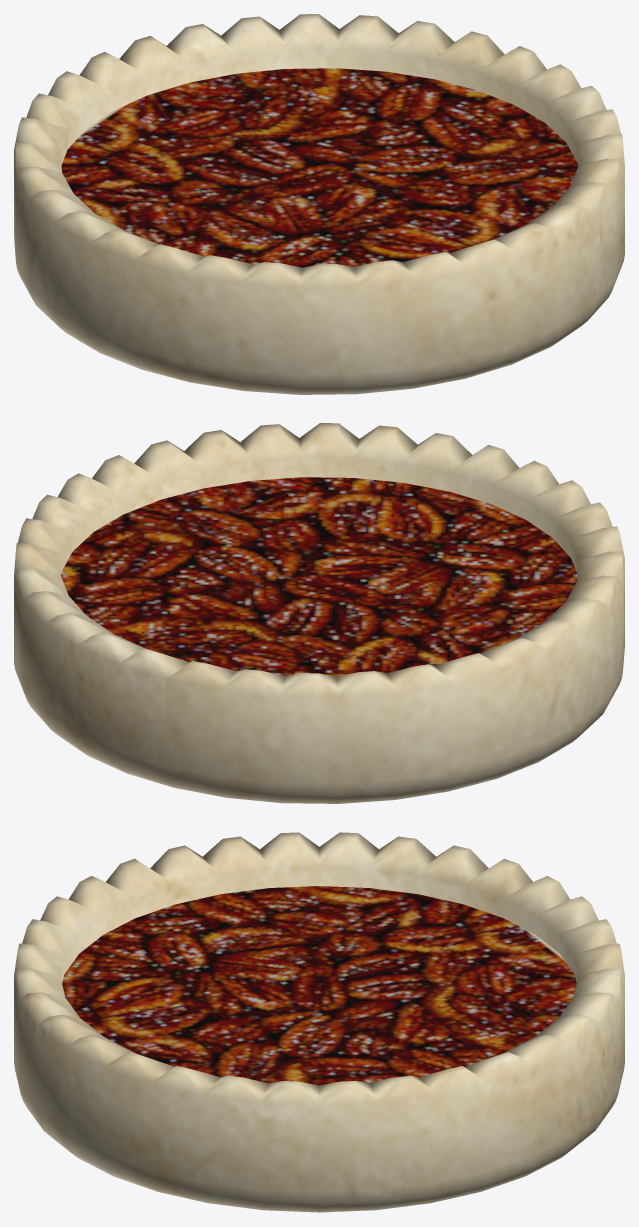
File: VFX_WholePie.fbx
The picture shows the model from 3 angles, top to bottom: view 1: azimuth 30°, elevation 25°; view 2: azimuth 150°, elevation 25°; view 3: azimuth 270°, elevation 25°; orthographic projection.
Parts seen in each view (by area): view 1: Pie Whole Open; view 2: Pie Whole Open; view 3: Pie Whole Open.
Boxes of the visible parts, x1,y1,x2,y2 form: Pie Whole Open: [14, 14, 624, 394]; Pie Whole Open: [14, 423, 624, 803]; Pie Whole Open: [14, 832, 624, 1212].
Size of the model in its own units: 0.2159 by 0.0516 by 0.2159.
